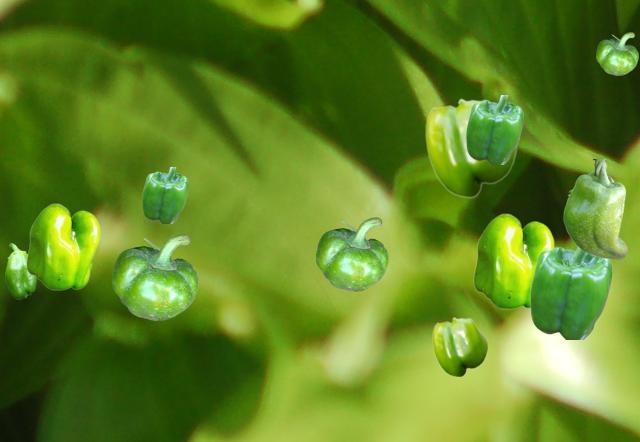bell_pepper: (425, 98, 516, 197), (473, 213, 553, 308), (530, 246, 611, 338), (112, 233, 197, 319), (26, 203, 99, 289), (563, 159, 626, 258), (316, 217, 387, 290), (466, 95, 522, 163), (432, 317, 487, 376), (142, 167, 187, 222), (596, 32, 637, 74), (5, 243, 35, 298)
